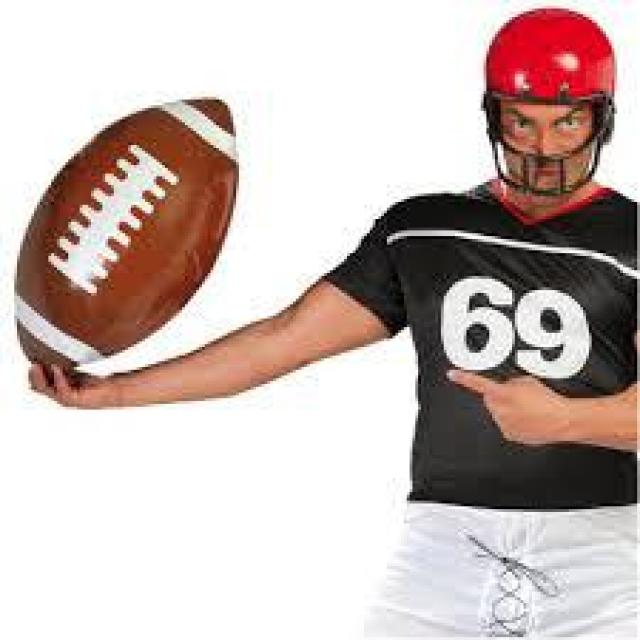ball: (2, 74, 262, 404)
